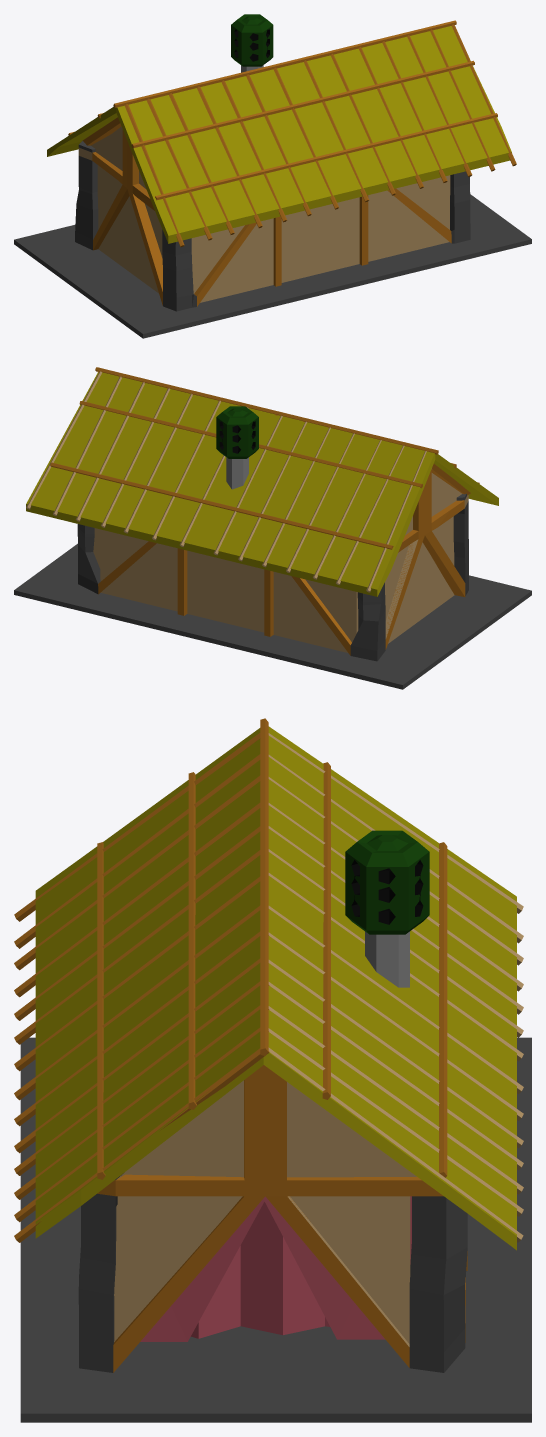
Rendered from Forge_second_level.fbx.
The picture shows the model from 3 angles, top to bottom: view 1: azimuth 30°, elevation 25°; view 2: azimuth 150°, elevation 25°; view 3: azimuth 270°, elevation 25°; orthographic projection. The views are drawn at different scales.
Parts seen in each view (by area): view 1: Forge_level_2, Cube; view 2: Forge_level_2, Cube; view 3: Forge_level_2, Cube.
Boxes of the visible parts, x1,y1,x2,y2 form: Forge_level_2: [47, 14, 516, 311]; Cube: [14, 194, 531, 338]; Forge_level_2: [26, 367, 498, 661]; Cube: [14, 543, 531, 689]; Forge_level_2: [14, 718, 523, 1372]; Cube: [20, 1037, 531, 1422].
Bounding box in the file's own units: 2392 × 1196 × 1392.
